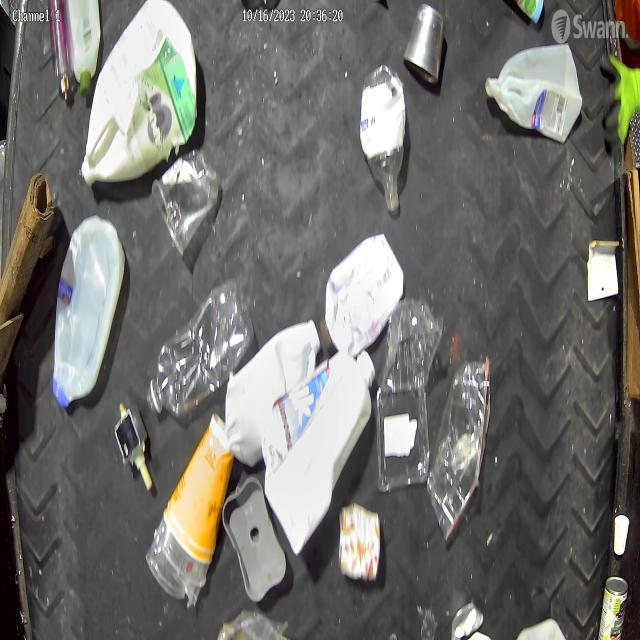can: (330, 489, 384, 587), (401, 0, 446, 88), (594, 566, 638, 640)
milk_jug: (266, 353, 376, 556), (220, 316, 322, 464), (52, 208, 121, 412), (485, 44, 585, 148)
non_white_jug: (82, 0, 202, 195)
plastic_bottle: (148, 283, 246, 416)
